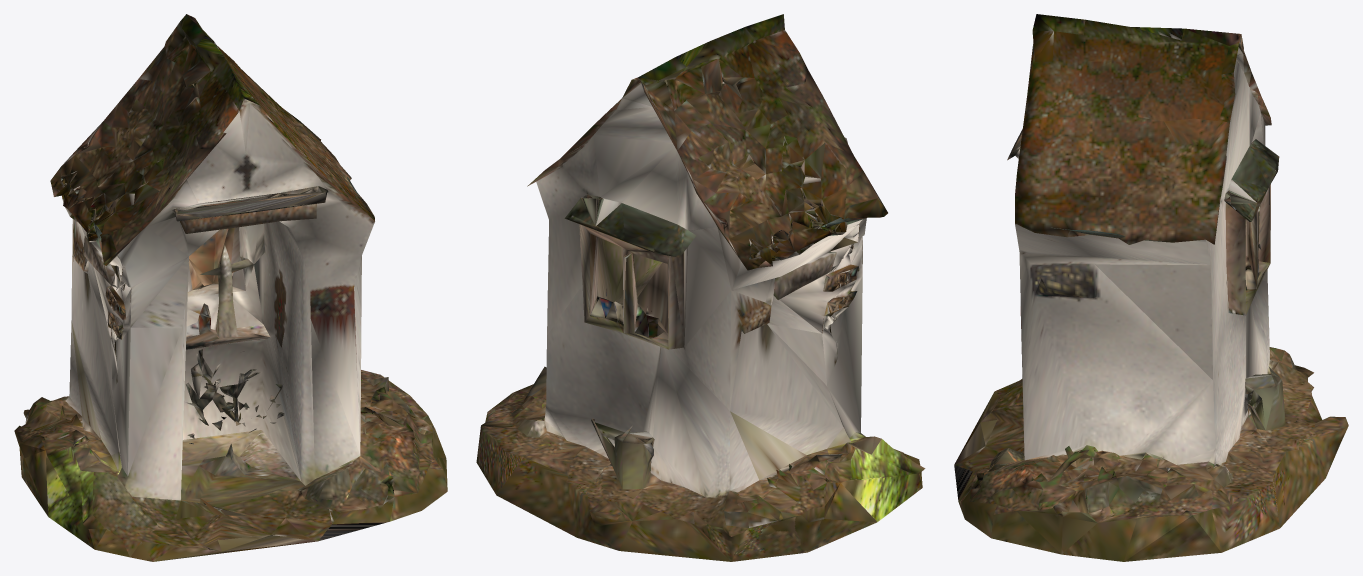
3 renders of one model, left to right at view 1: azimuth 30°, elevation 25°; view 2: azimuth 150°, elevation 25°; view 3: azimuth 270°, elevation 25°, orthographic. The views are drawn at different scales.
Visible parts, largest first — view 1: Materl_0.2m_1k; view 2: Materl_0.2m_1k; view 3: Materl_0.2m_1k.
Part boxes in pixels (x1,y1,x2,y2): Materl_0.2m_1k: [14, 14, 447, 561]; Materl_0.2m_1k: [476, 14, 925, 561]; Materl_0.2m_1k: [954, 14, 1348, 561].
Size of the model in its own units: 2.96 by 3.18 by 2.61.
Materials: 1 (1 with a texture image).
